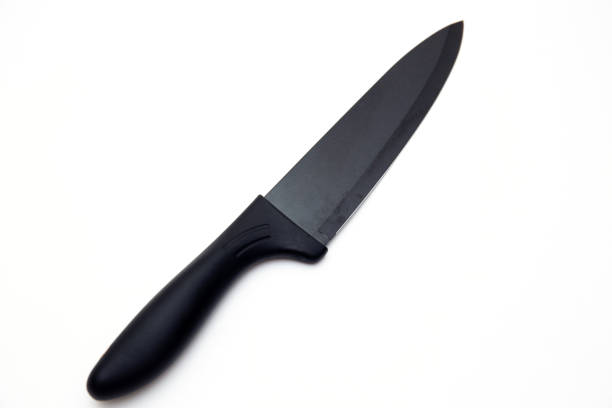knife: (84, 17, 466, 403)
